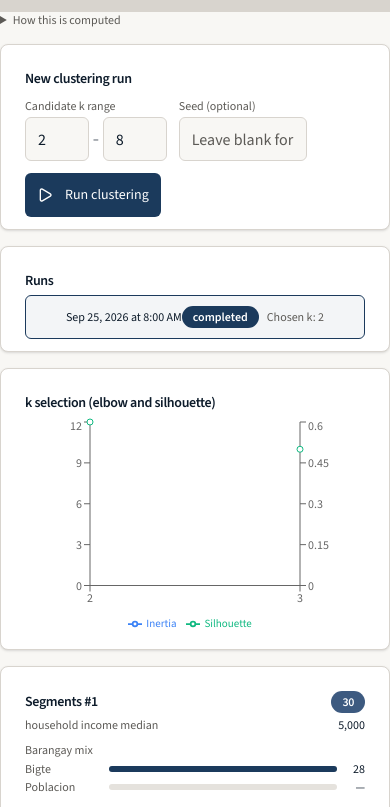
Test: ClusteringTab › rejects an invalid k range before posting
This screenshot has width=390, height=807.
Replace the text in the number field labelled "Candidate k range" with "12": (57, 139) left=25, top=117, right=89, bottom=161
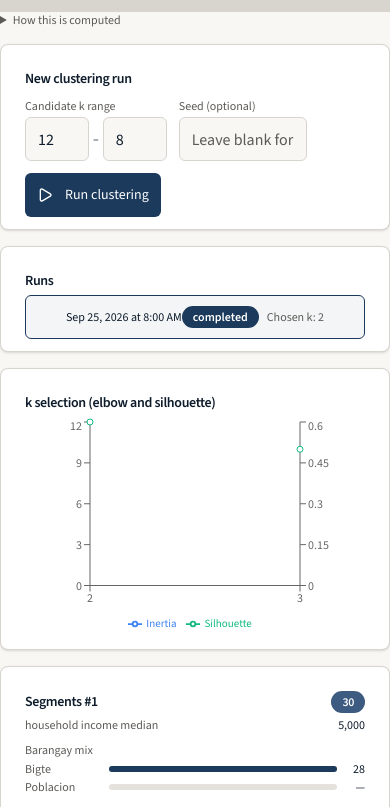
Click the button "Run clustering": (93, 195) left=25, top=173, right=161, bottom=217
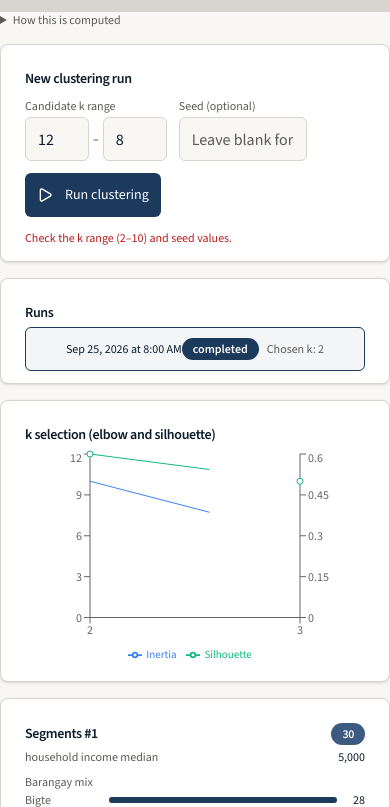
Expected: the message shows "Check the k range", left=25, top=230, right=232, bottom=246
